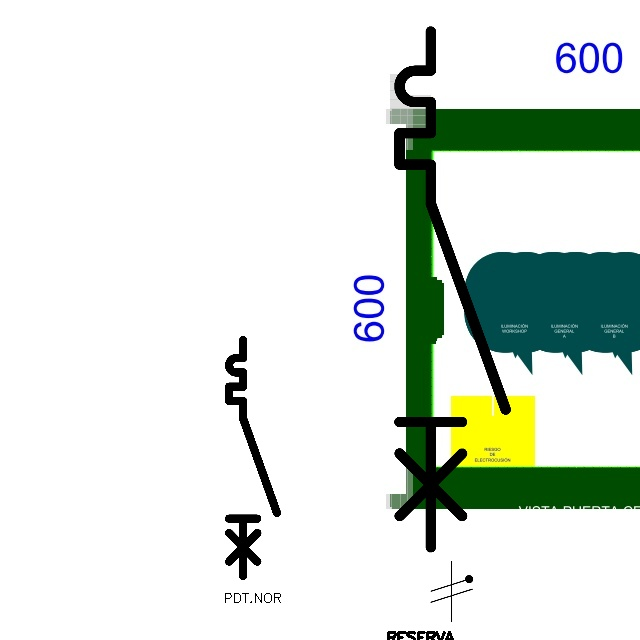interruptor_termomagnetico: (386, 18, 519, 560), (223, 334, 283, 582)
